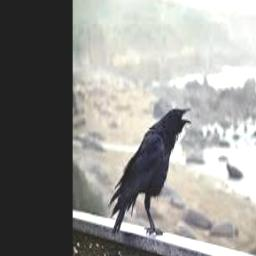Crow: (108, 105, 192, 238)
